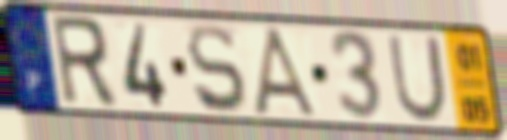3: (330, 26, 383, 126)
4: (120, 19, 171, 111)
A: (250, 25, 325, 122)
R: (47, 13, 121, 112)
S: (184, 21, 250, 117)
U: (385, 33, 451, 126)
